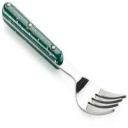fork: (1, 2, 128, 118)
